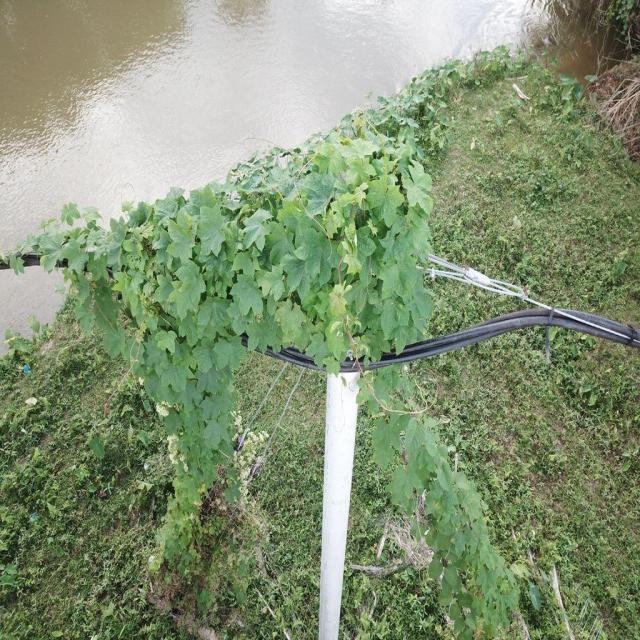critical vegetation: (41, 97, 522, 612)
